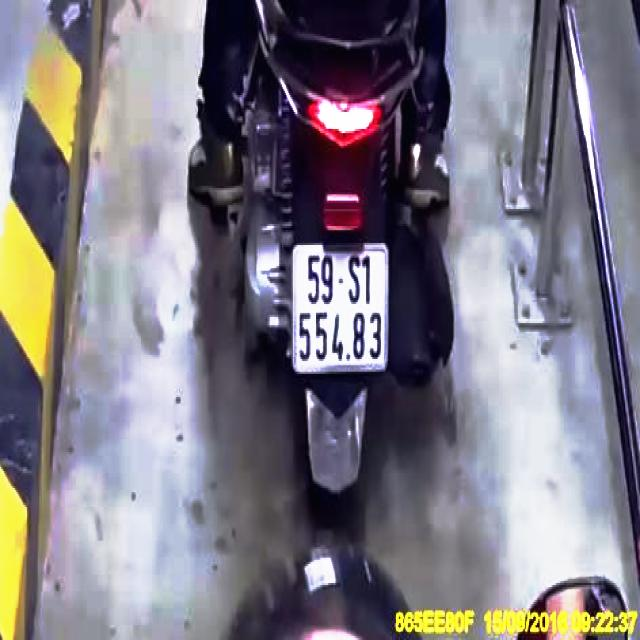license_plate: (293, 248, 389, 371)
